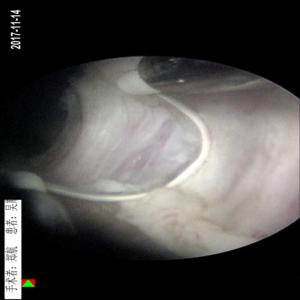film: (91, 109, 272, 193)
